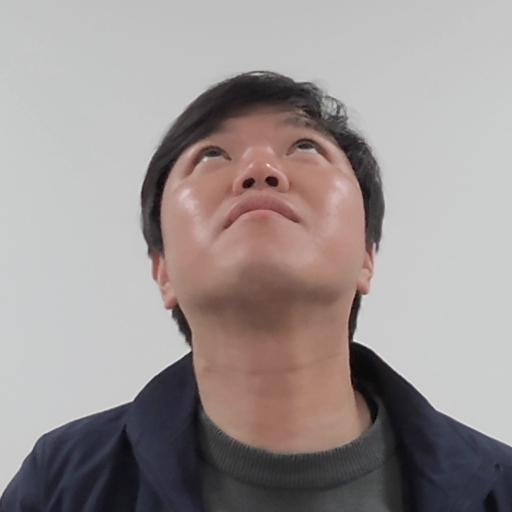no_glasses: (142, 71, 374, 342)
